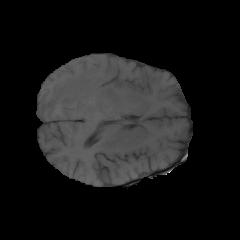glioma: (42, 68, 116, 116)
